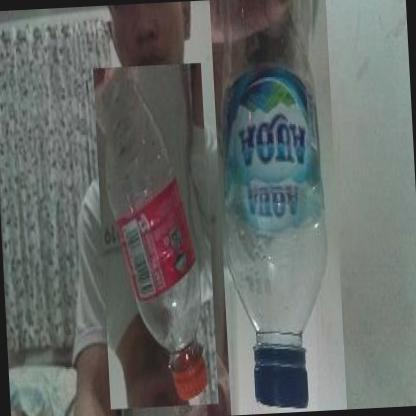plastic_bottles: (209, 0, 347, 415), (92, 62, 218, 410)
